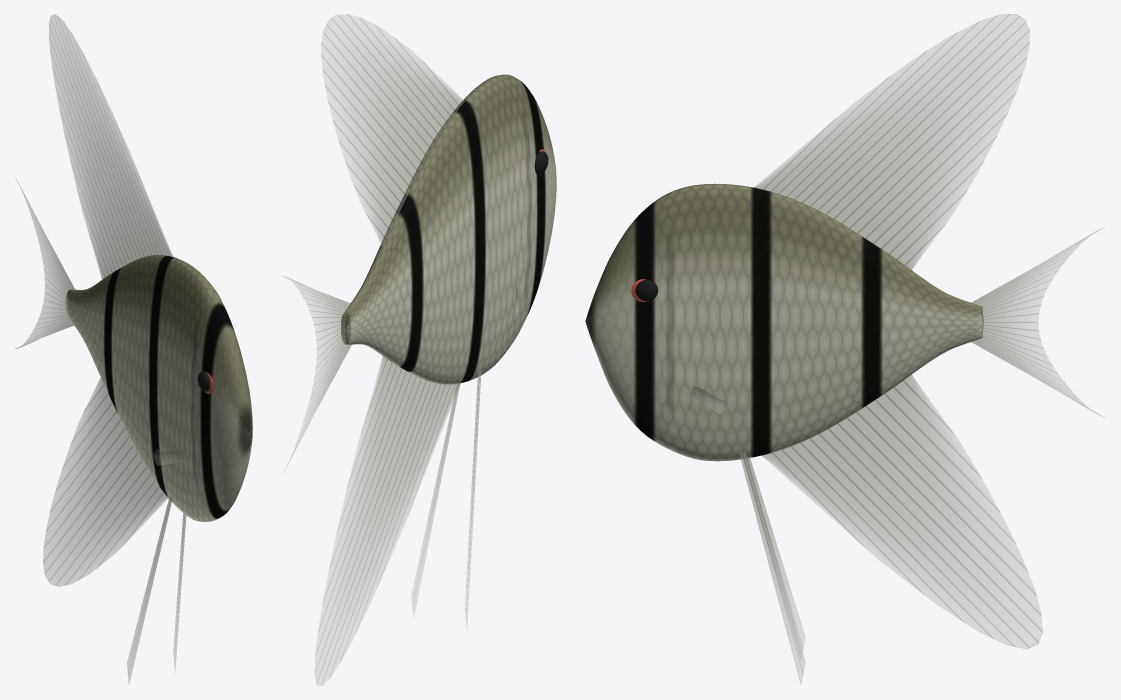
File: angel_1.glb
3 renders of one model, left to right at view 1: azimuth 30°, elevation 25°; view 2: azimuth 150°, elevation 25°; view 3: azimuth 270°, elevation 25°, orthographic. The views are drawn at different scales.
Parts seen in each view (by area): view 1: fins, body; view 2: fins, body; view 3: fins, body.
Part boxes in pixels (bbox=[...]): fins: bbox=[15, 14, 186, 683]; body: bbox=[65, 255, 252, 521]; fins: bbox=[282, 14, 518, 685]; body: bbox=[341, 74, 556, 384]; fins: bbox=[691, 14, 1104, 685]; body: bbox=[585, 183, 983, 461].
Bounding box in the file's own units: 0.1426 × 1.29 × 0.924.
Materials: 4 (2 with a texture image).
